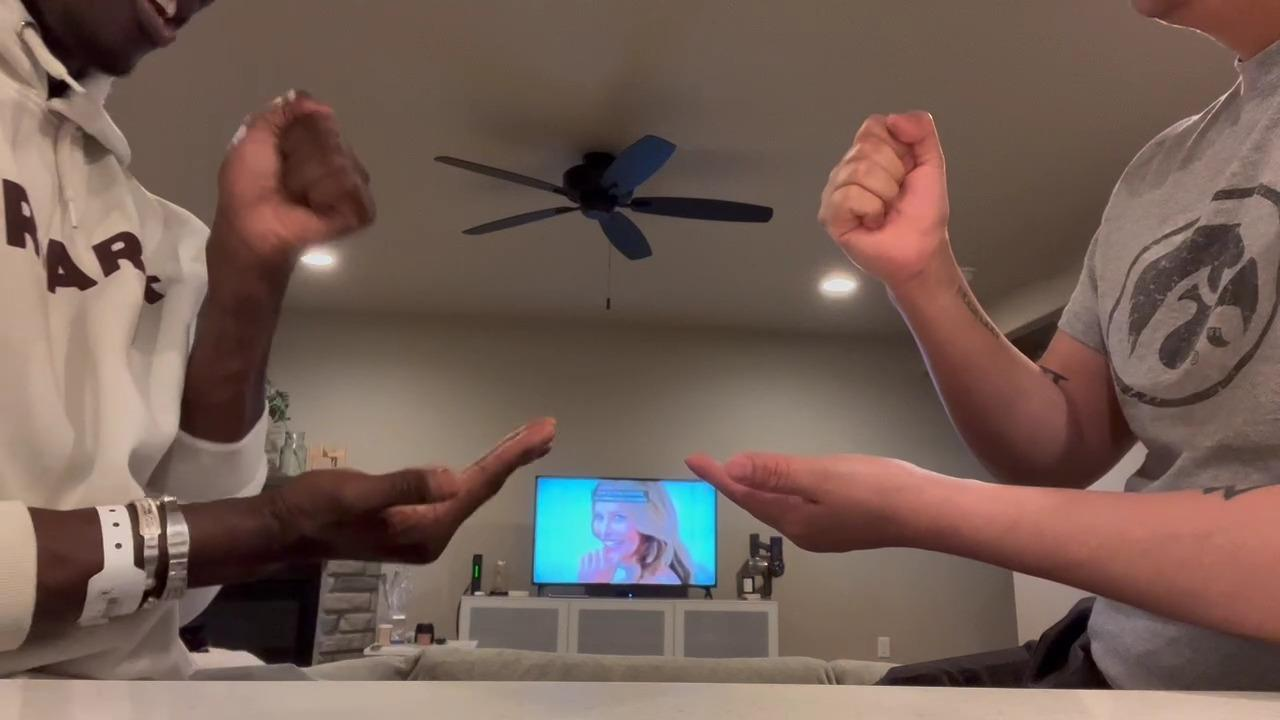Rock: (208, 83, 381, 265), (813, 103, 958, 288)
